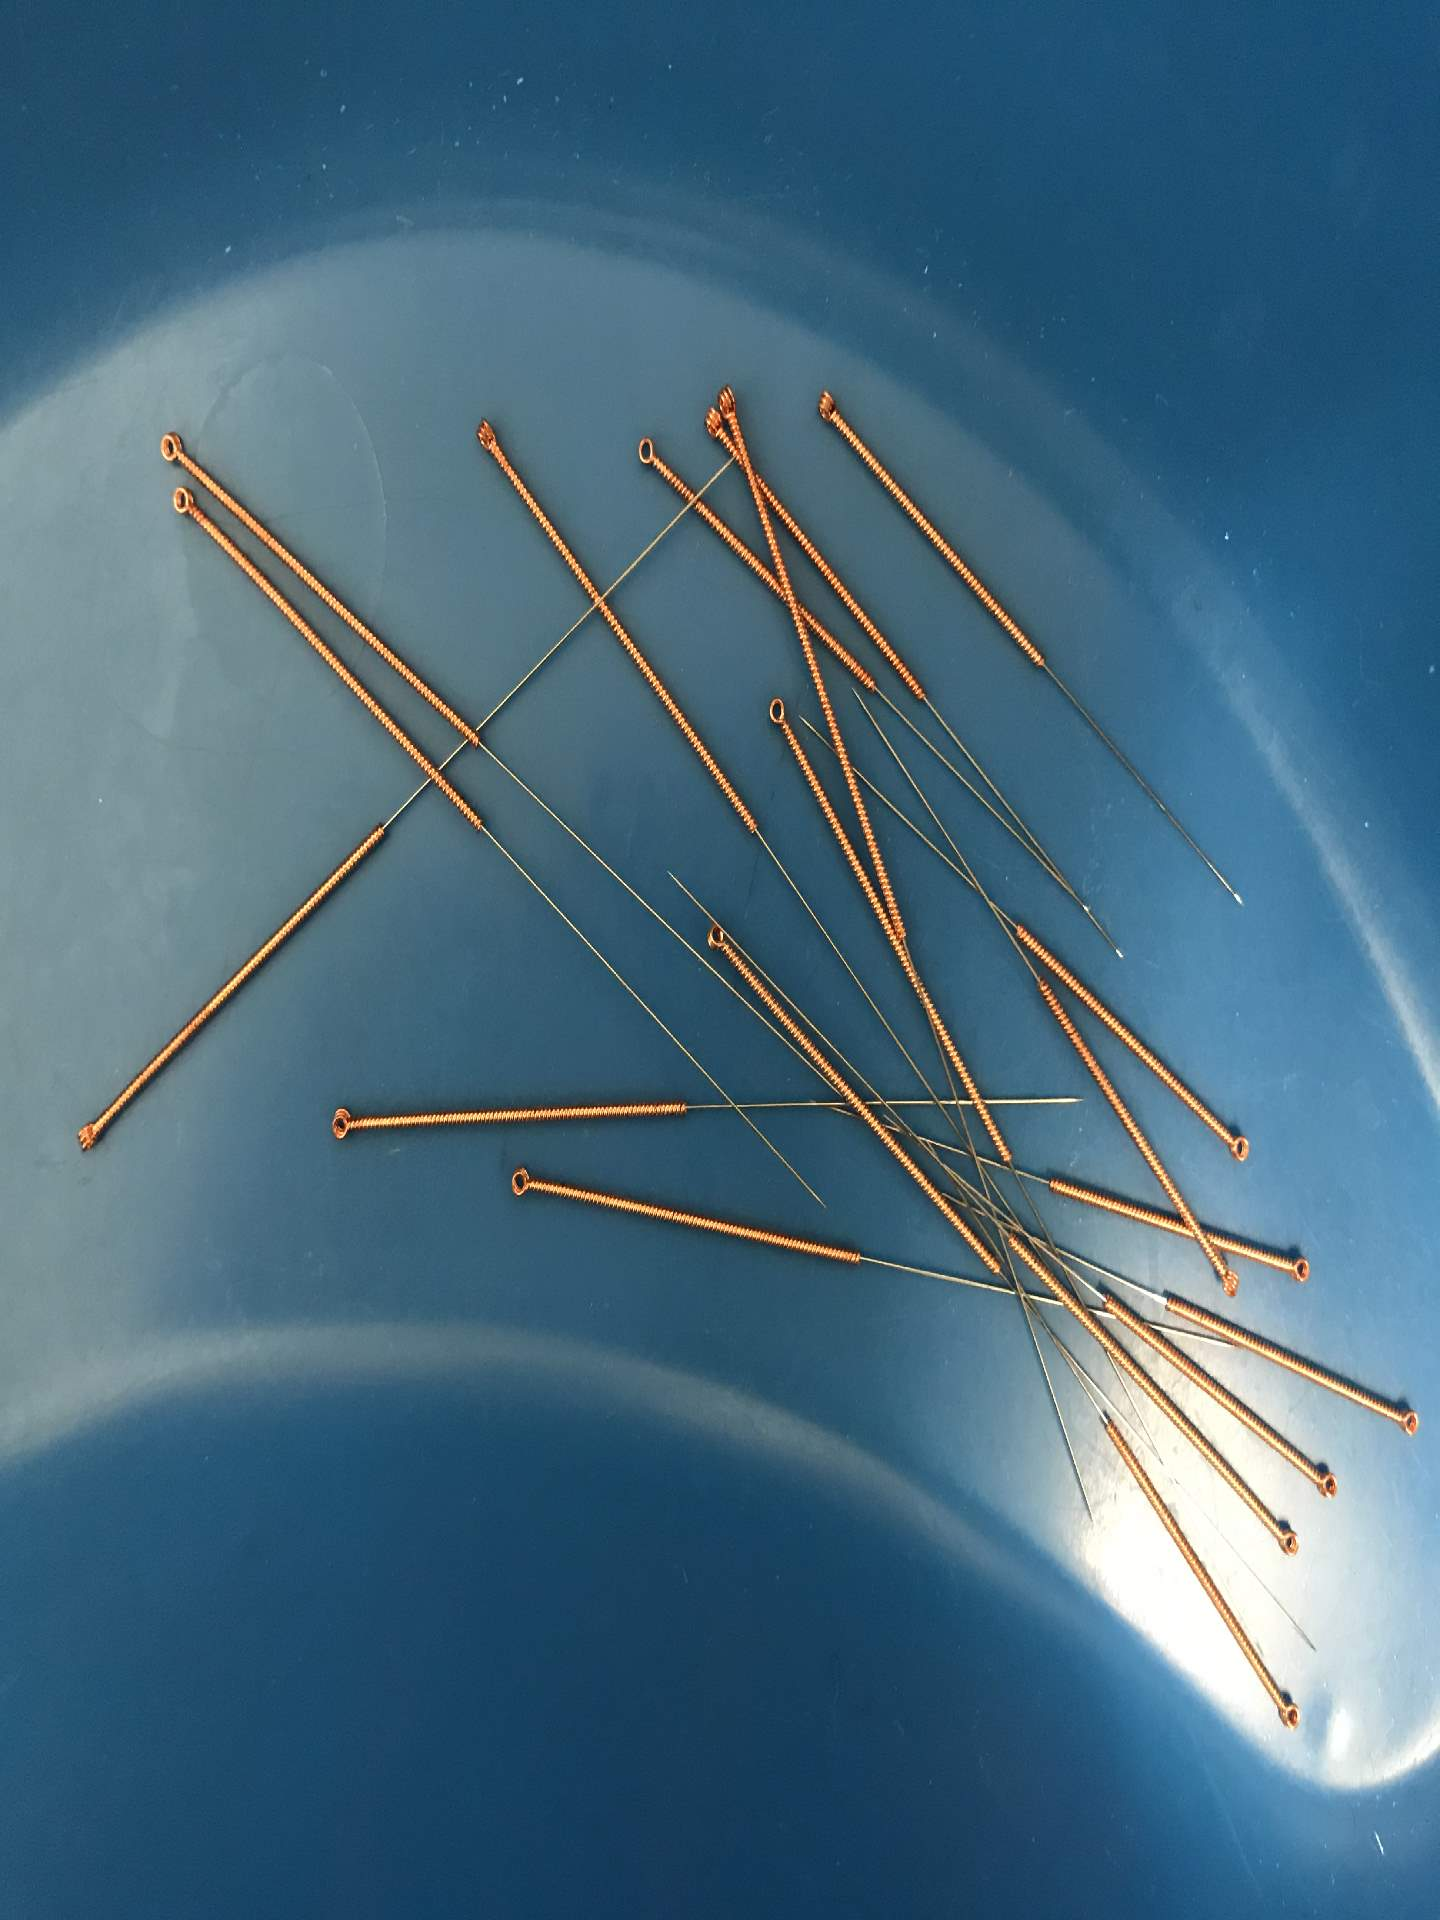needle: (495, 1158, 551, 1208), (318, 1098, 368, 1149), (68, 1108, 109, 1163), (150, 425, 194, 475), (464, 411, 505, 463), (758, 685, 796, 739), (1219, 1120, 1258, 1172), (162, 479, 203, 528), (628, 429, 669, 476), (697, 916, 737, 965), (809, 384, 849, 429), (1271, 1690, 1307, 1739), (1389, 1400, 1428, 1444), (1280, 1249, 1317, 1294), (1269, 1516, 1304, 1565), (1305, 1463, 1346, 1504), (715, 379, 746, 432), (1212, 1256, 1243, 1305), (693, 404, 728, 446)
